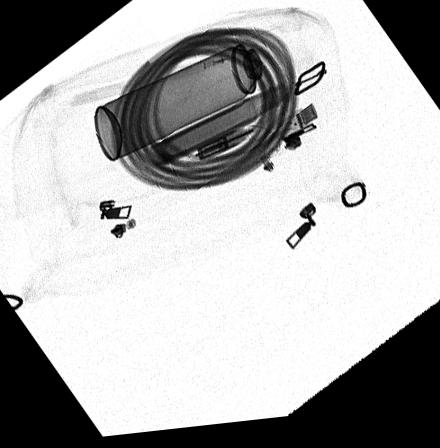Sprayer: (93, 30, 296, 164)
